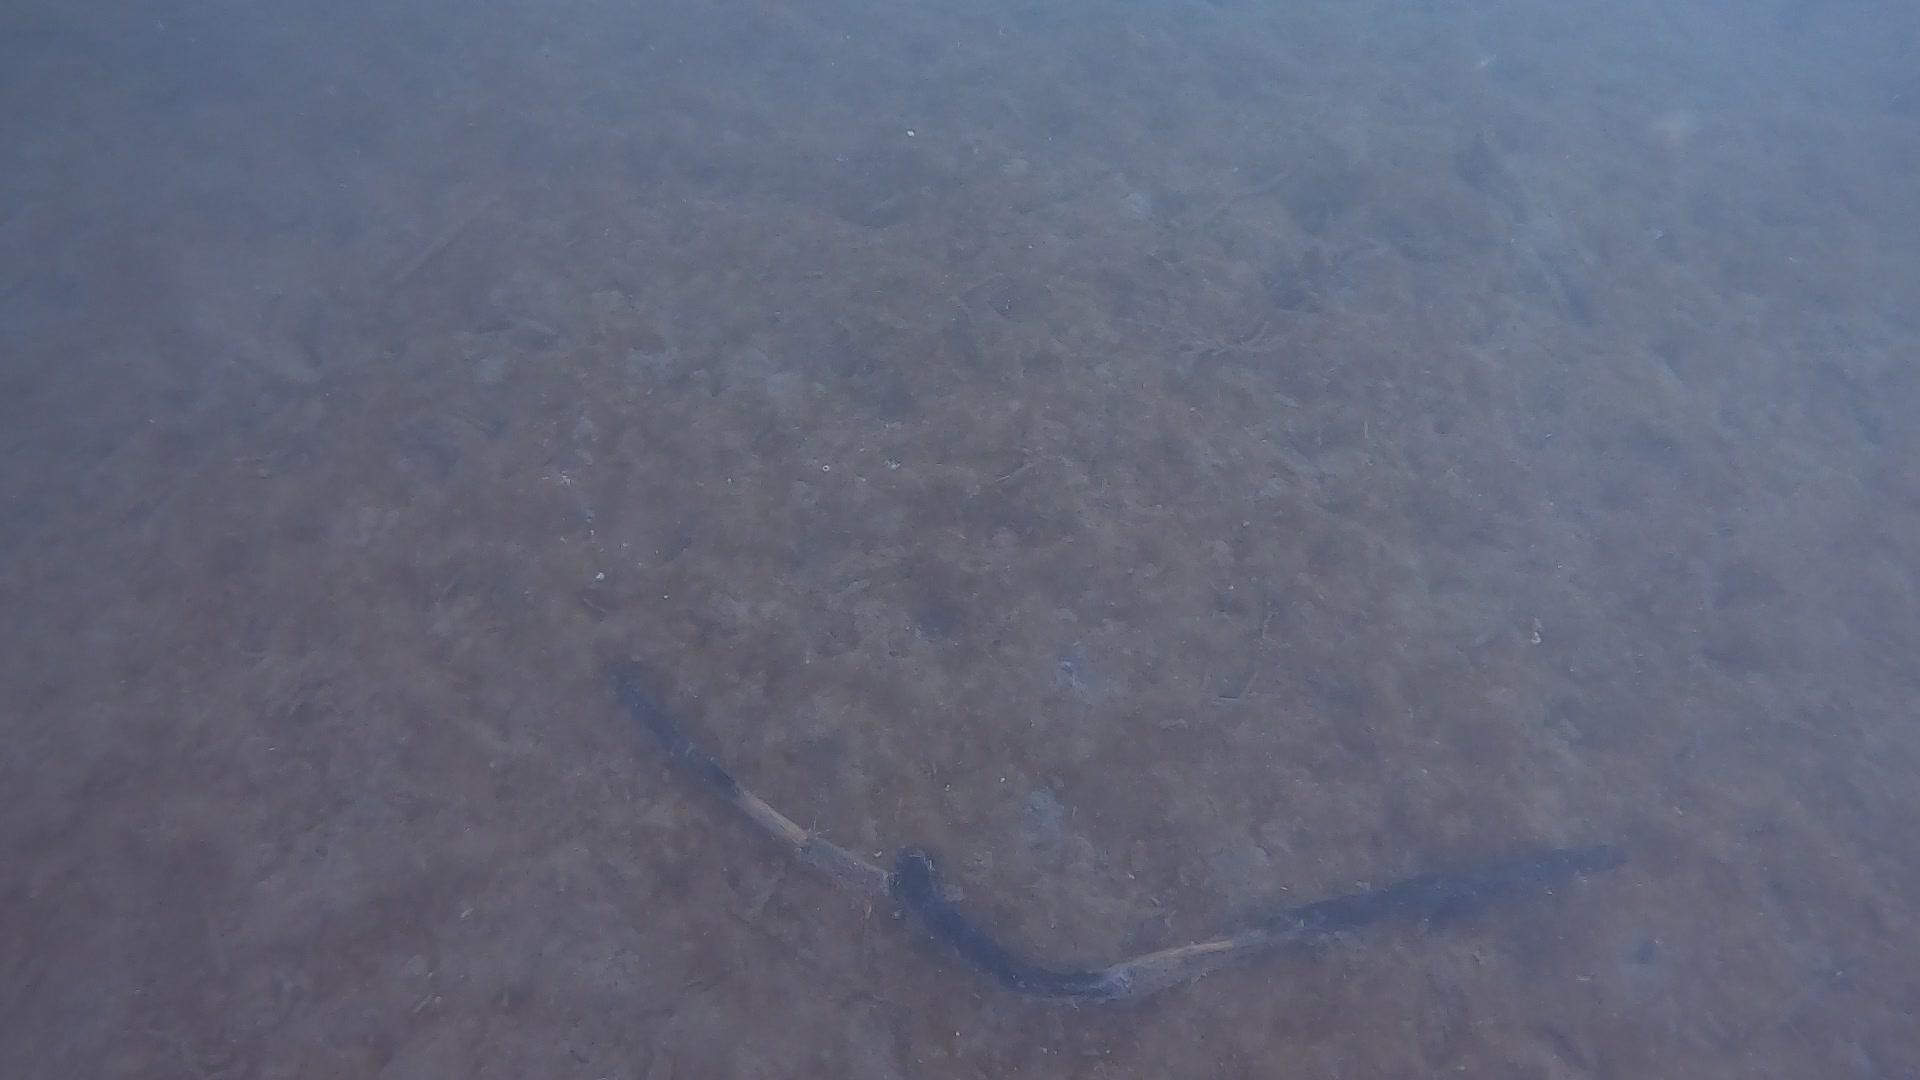wood: (600, 665, 1629, 1001)
